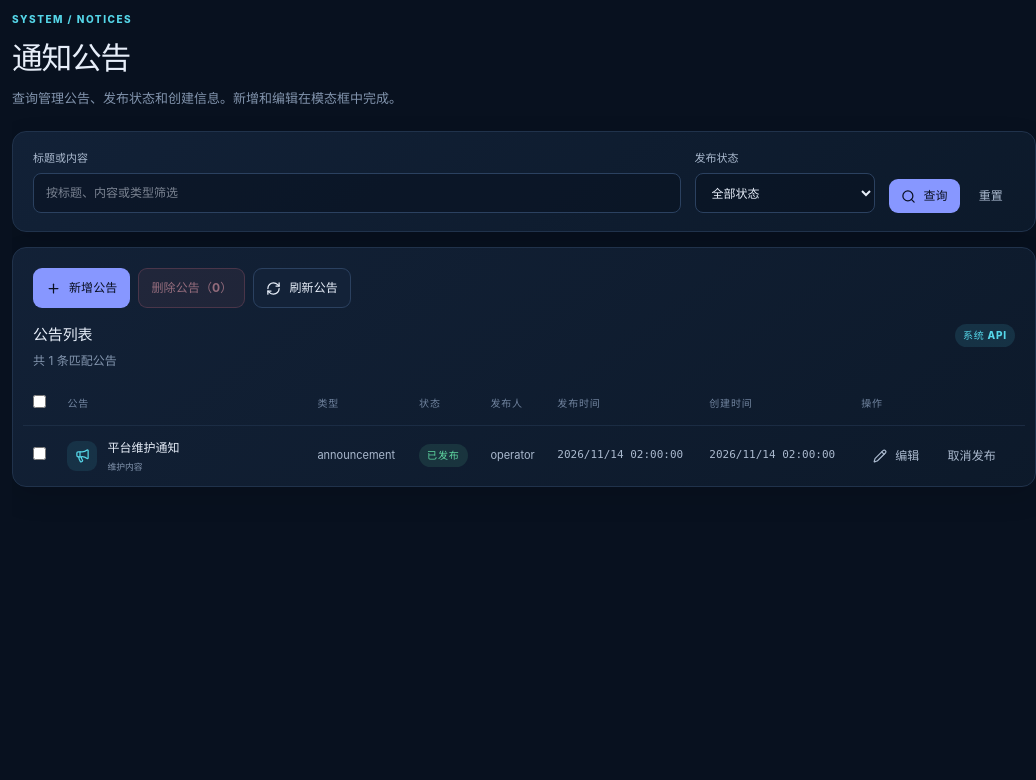
Test: NoticesPage › 发布参数无效时显示专用错误码和提示
Expected: the text "平台维护通知" is shown, [107,439,179,457]
Click the button "取消发布".
click(972, 456)  # box [936,439,1008,473]
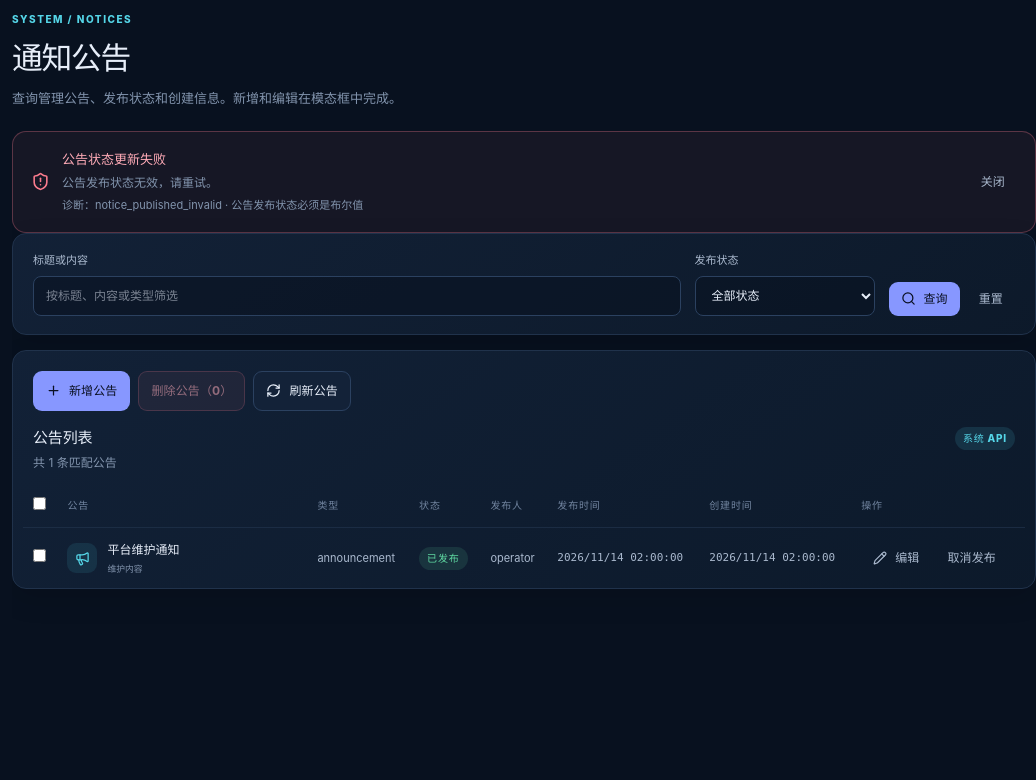
Result: the message shows "公告状态更新失败" at [62,151,166,167]
Result: the message shows "公告发布状态无效，请重试。" at [62,175,218,190]
Result: the message shows "notice_published_invalid" at [95,198,363,212]
